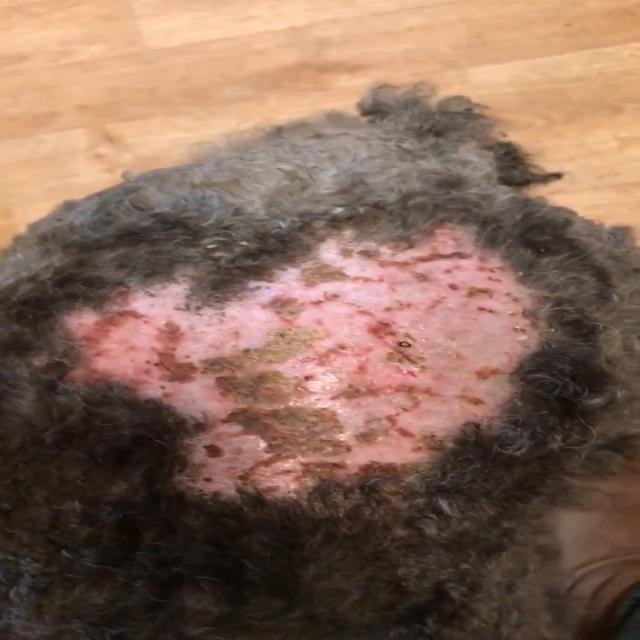allergic dermatitis: (61, 220, 541, 498)
